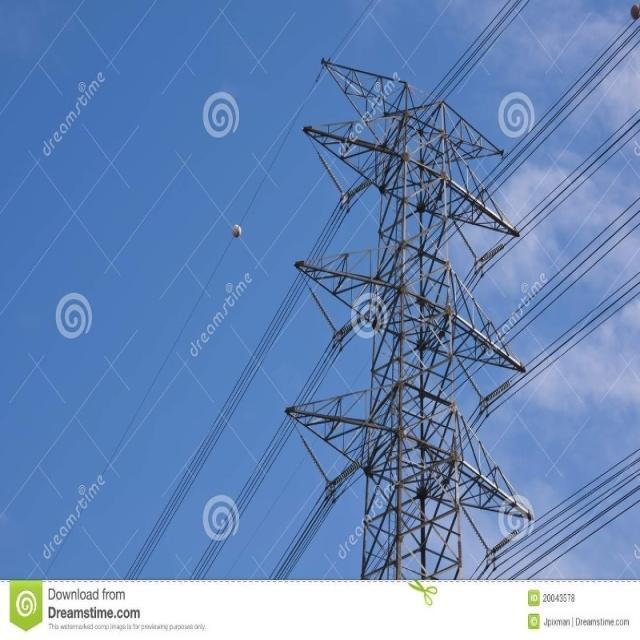non-critical vegetation: (288, 41, 538, 570)
